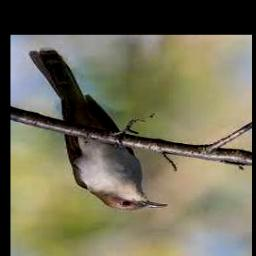Cuckoo: (31, 50, 167, 210)
